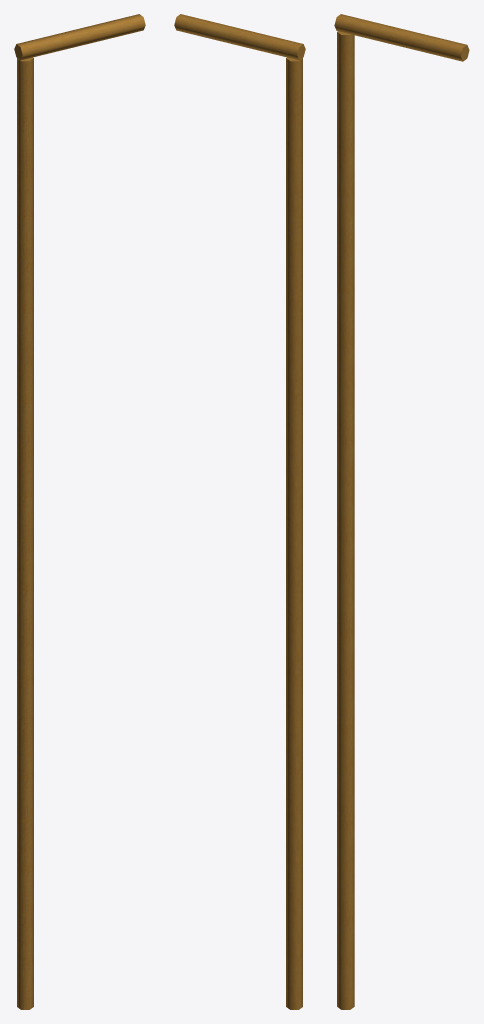
The model's file is LampPost.fbx.
The picture shows the model from 3 angles, left to right: view 1: azimuth 30°, elevation 25°; view 2: azimuth 150°, elevation 25°; view 3: azimuth 330°, elevation 25°; orthographic projection. The views are drawn at different scales.
Visible parts, largest first — view 1: Cylinder; view 2: Cylinder; view 3: Cylinder.
Boxes of the visible parts, x1,y1,x2,y2 form: Cylinder: (14,14,145,1009); Cylinder: (174,14,305,1009); Cylinder: (334,14,469,1009).
Bounding box in the file's own units: 2.43 × 18.2 × 0.2917.
